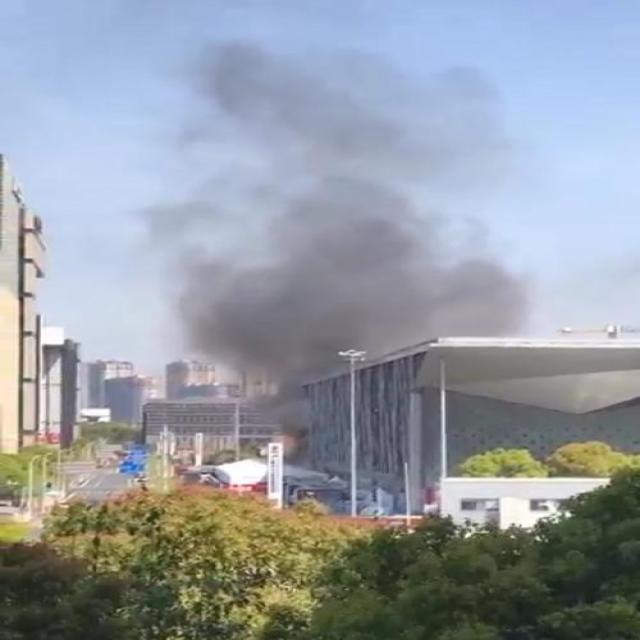Smoke: (135, 44, 534, 380)
